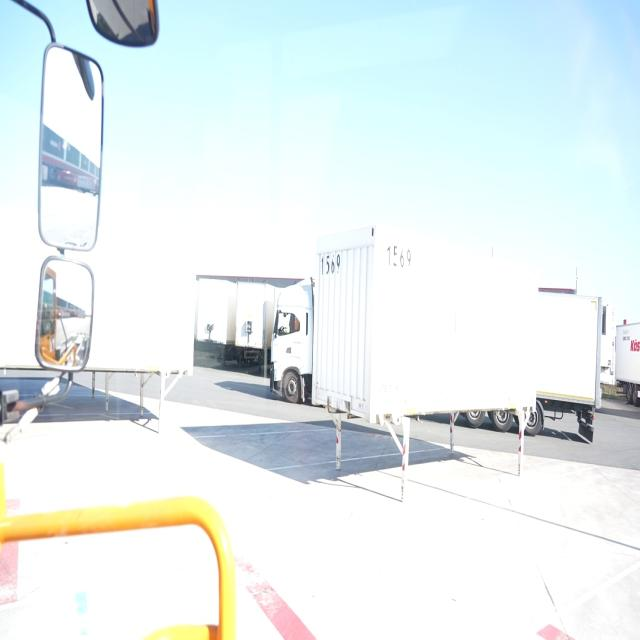Code: (381, 238, 415, 278), (318, 250, 344, 280)
